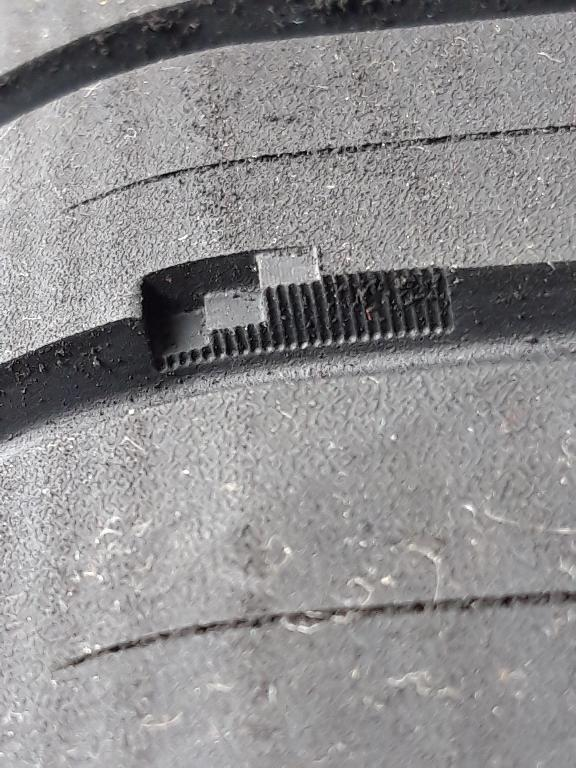temoin:50: (117, 235, 341, 385)
